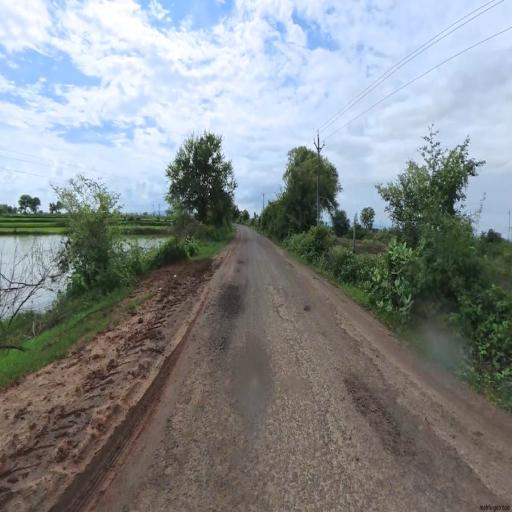ravelling: (333, 359, 420, 495)
